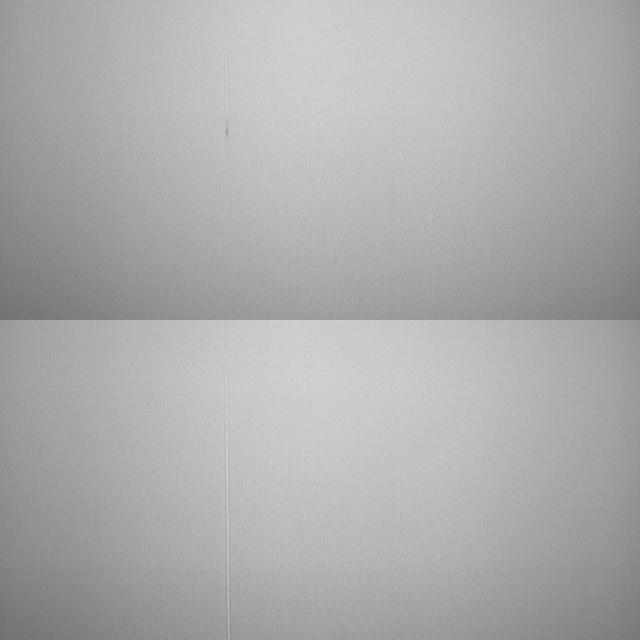Stain: (223, 119, 231, 142)
Warp_Weft: (224, 319, 231, 640), (223, 0, 229, 115)
